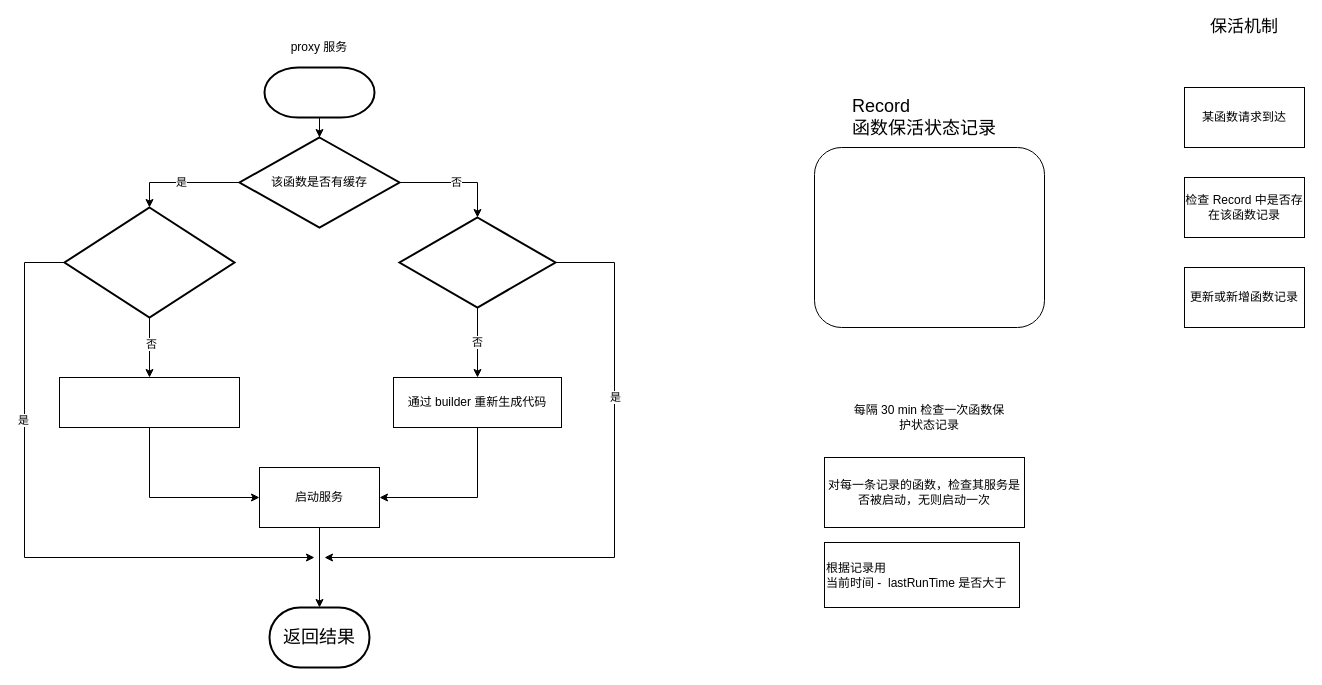
The diagram is 1322 pixels wide and 685 high, and some of its shapes have lost their labels. Each missing label, with the centre of its shape:
"{ functionName: 'myFun', lastRunTime: '2021-6-10', activated : 12 }， { ... } ..." goes at [929,237].
"储存目录下是否存在该函数" goes at [477,262].
"判断为函数代码更新，清除缓存" goes at [149,402].
"开始" goes at [319,92].
"比对缓存时间与代码最后的生成时间是否一致" goes at [149,262].
